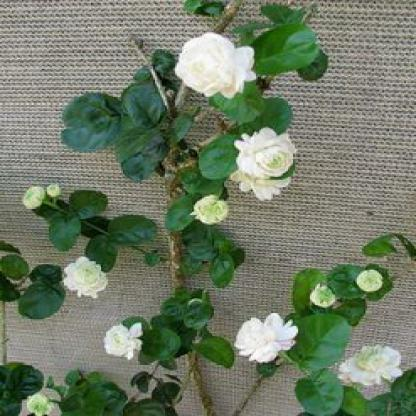Melati: (139, 30, 292, 122), (224, 109, 315, 223), (230, 308, 301, 377), (180, 184, 256, 243), (95, 312, 163, 365), (340, 337, 400, 389), (50, 257, 117, 303)
